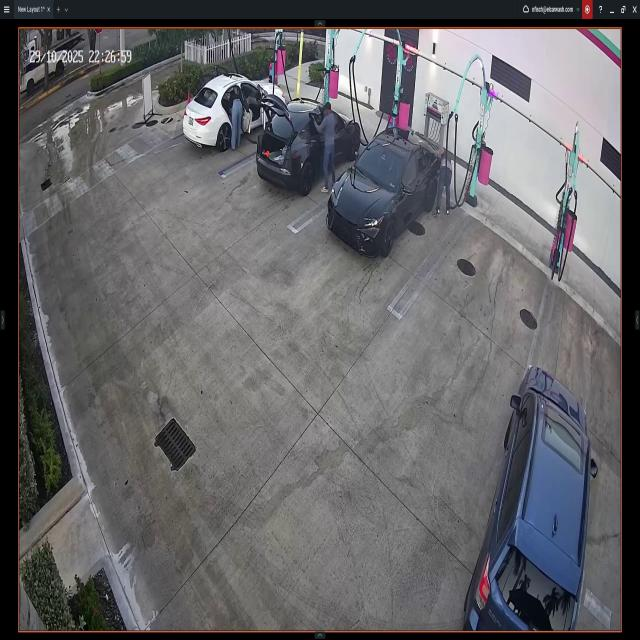Car: (463, 364, 598, 631), (328, 129, 442, 260), (256, 98, 361, 187), (183, 68, 286, 152)
